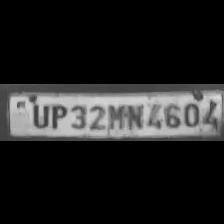0: (181, 100, 201, 126)
2: (88, 101, 106, 129)
3: (67, 101, 87, 128)
4: (202, 96, 220, 126), (144, 100, 162, 128)
6: (162, 99, 180, 127)
M: (106, 101, 124, 129)
N: (124, 100, 142, 130)
P: (47, 101, 66, 128)
U: (28, 100, 48, 127)
